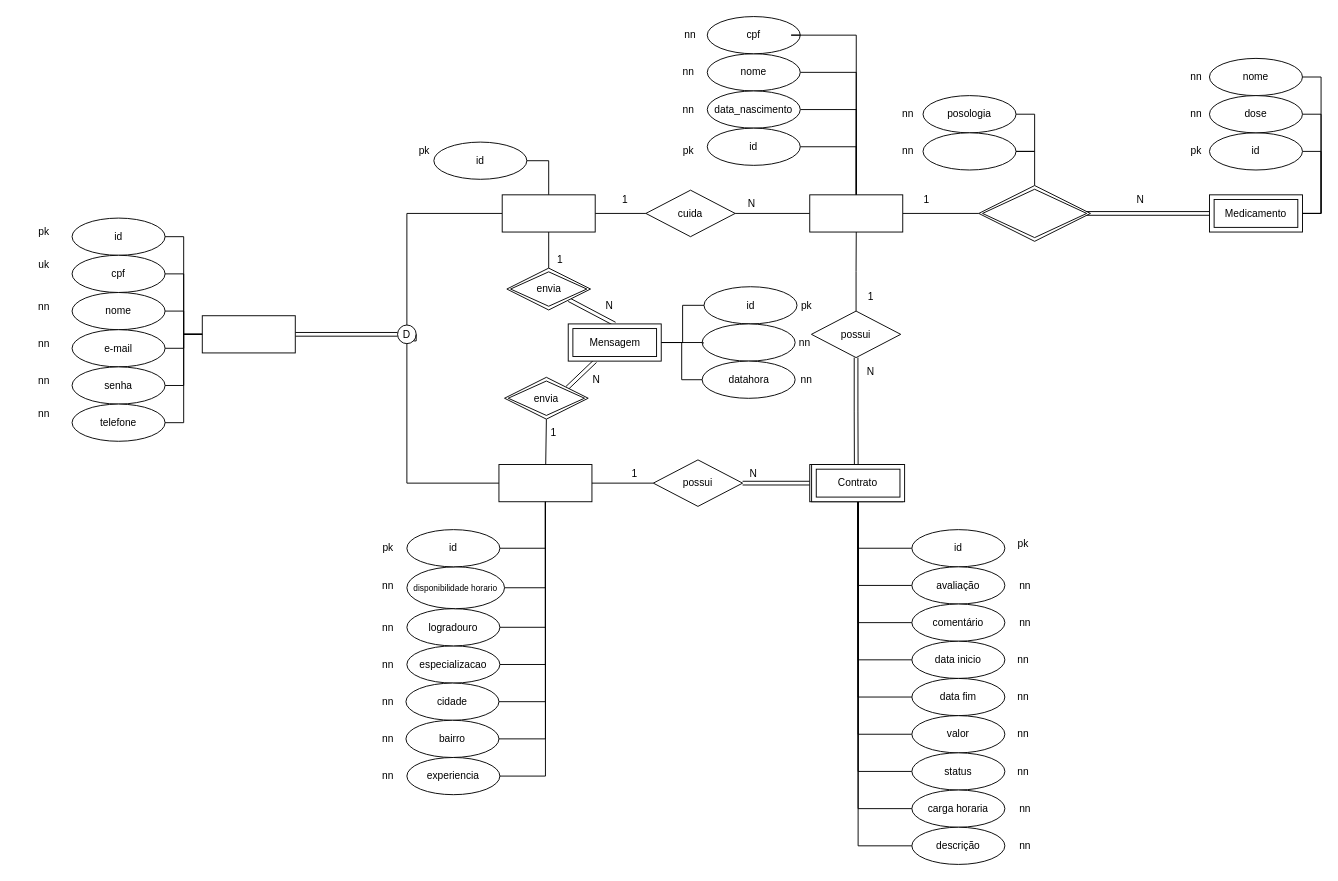
The diagram is 1338 pixels wide and 881 high, and some of its shapes have lost their labels. The centre of each missing label's shape, as x and y in pixels:
Cuidador: (x=545, y=483)
horario: (x=969, y=151)
Idoso: (x=856, y=213)
Responsável: (x=548, y=213)
texto: (x=748, y=342)
usa: (x=1034, y=213)
Usuario: (x=248, y=334)
